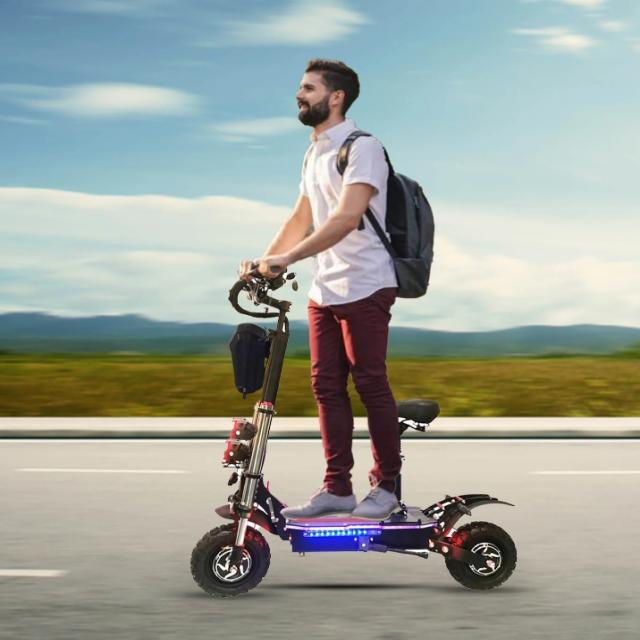non-helmet: (186, 52, 525, 603)
